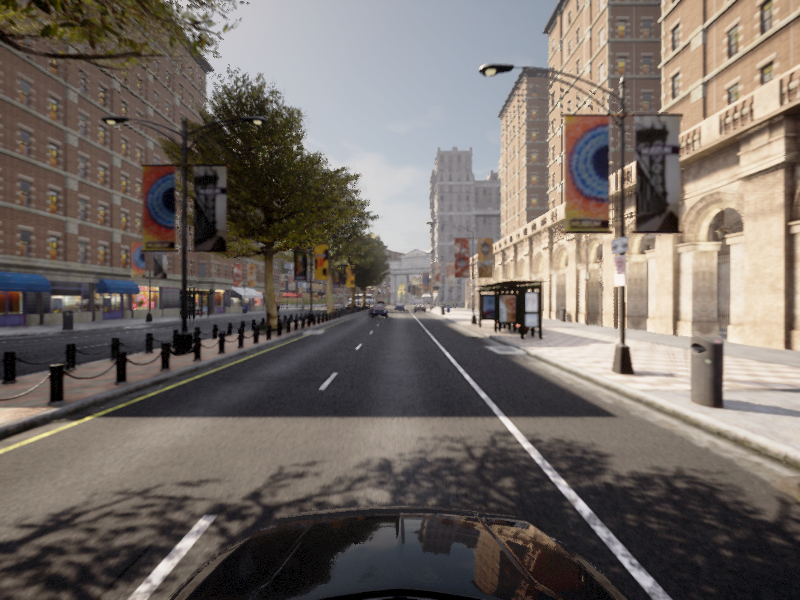vehicle: (268, 302, 282, 322), (367, 305, 388, 318)
